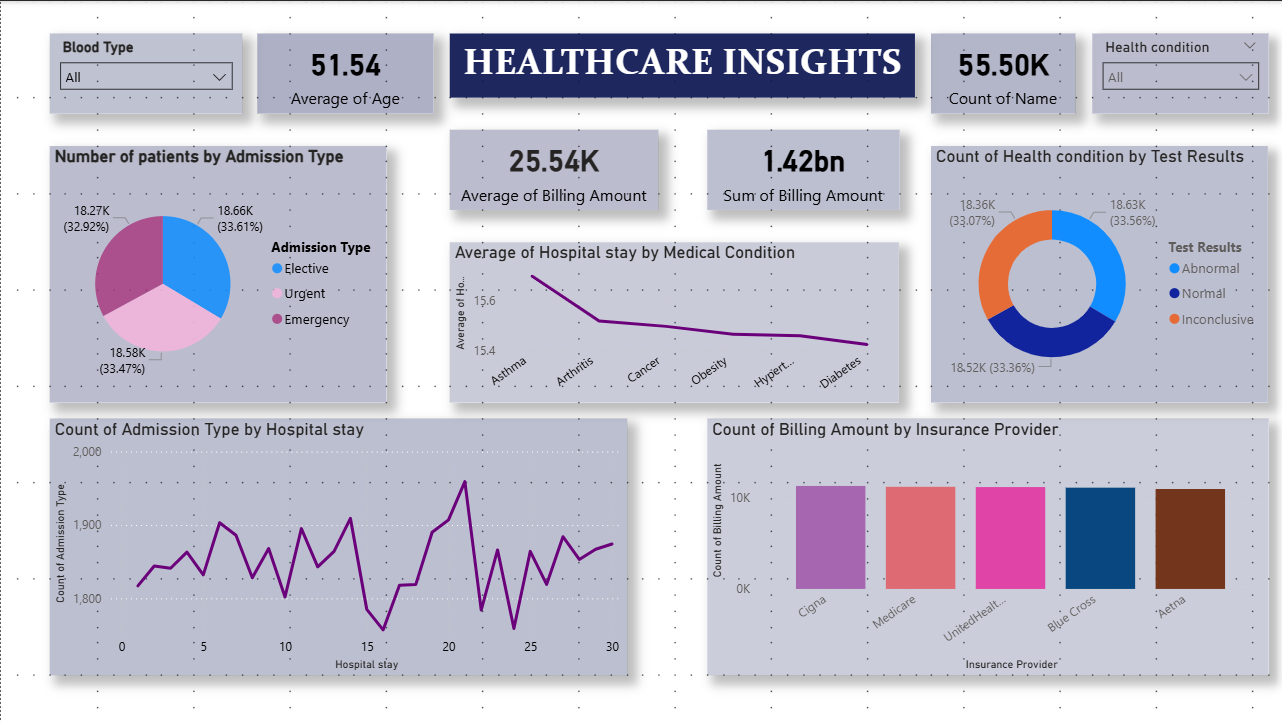

Layout of this report page (visuals, bound fields, positions):
{"tool":"powerbi","page":{"name":"Page 1","canvas":[1280,720],"ordinal":0},"visuals":[{"type":"card","fields":{"Values":["Avg(Worksheet.Billing Amount)"]},"box":[448,128,208,80],"z":0},{"type":"card","fields":{"Values":["Avg(Worksheet.Age)"]},"box":[256,32,176,80],"z":1000},{"type":"card","fields":{"Values":["CountNonNull(Worksheet.Name)"]},"box":[928,32,144,80],"z":2000},{"type":"textbox","box":[448,32,464,64],"z":3000},{"type":"card","fields":{"Values":["Sum(Worksheet.Billing Amount)"]},"box":[704,128,192,80],"z":4000},{"type":"pieChart","fields":{"Category":["Worksheet.Admission Type"],"Y":["CountNonNull(Worksheet.Name)"]},"box":[48,144,336,256],"z":5000},{"type":"donutChart","fields":{"Category":["Worksheet.Test Results"],"Y":["CountNonNull(Worksheet.Health condition)"]},"box":[928,144,336,256],"z":6000},{"type":"lineChart","fields":{"Category":["Worksheet.Medical Condition"],"Y":["Avg(Worksheet.Hospital stay)"]},"box":[448,240,448,160],"z":7000},{"type":"lineChart","fields":{"Category":["Worksheet.Hospital stay"],"Y":["CountNonNull(Worksheet.Admission Type)"]},"box":[48,416,576,256],"z":9000},{"type":"clusteredColumnChart","fields":{"Category":["Worksheet.Insurance Provider"],"Y":["CountNonNull(Worksheet.Billing Amount)"]},"box":[704,416,560,256],"z":10000},{"type":"slicer","fields":{"Values":["Worksheet.Blood Type"]},"box":[48,32,192,80],"z":10001},{"type":"slicer","fields":{"Values":["Worksheet.Health condition"]},"box":[1088,32,176,80],"z":10002}]}

Visuals, with their boxes in screenshot pixels (x1, y1, x2, y2), scaled from the page's 1280x720 canvas onto the 1282x722 screenshot:
card - Avg(Worksheet.Billing Amount): [449, 128, 657, 209]
card - Avg(Worksheet.Age): [256, 32, 433, 112]
card - CountNonNull(Worksheet.Name): [929, 32, 1074, 112]
textbox: [449, 32, 913, 96]
card - Sum(Worksheet.Billing Amount): [705, 128, 897, 209]
pieChart - Worksheet.Admission Type x CountNonNull(Worksheet.Name): [48, 144, 385, 401]
donutChart - Worksheet.Test Results x CountNonNull(Worksheet.Health condition): [929, 144, 1266, 401]
lineChart - Worksheet.Medical Condition x Avg(Worksheet.Hospital stay): [449, 241, 897, 401]
lineChart - Worksheet.Hospital stay x CountNonNull(Worksheet.Admission Type): [48, 417, 625, 674]
clusteredColumnChart - Worksheet.Insurance Provider x CountNonNull(Worksheet.Billing Amount): [705, 417, 1266, 674]
slicer - Worksheet.Blood Type: [48, 32, 240, 112]
slicer - Worksheet.Health condition: [1090, 32, 1266, 112]
